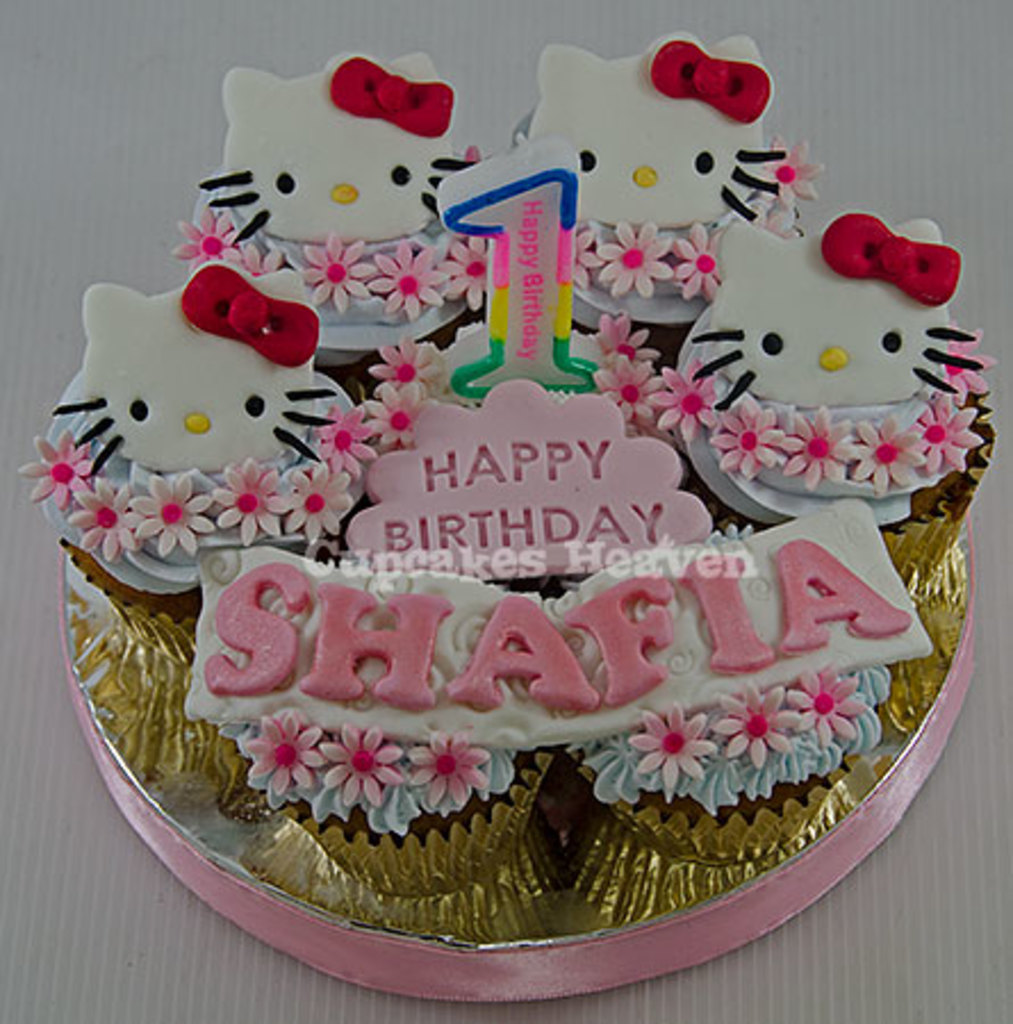cake: (18, 46, 995, 890)
